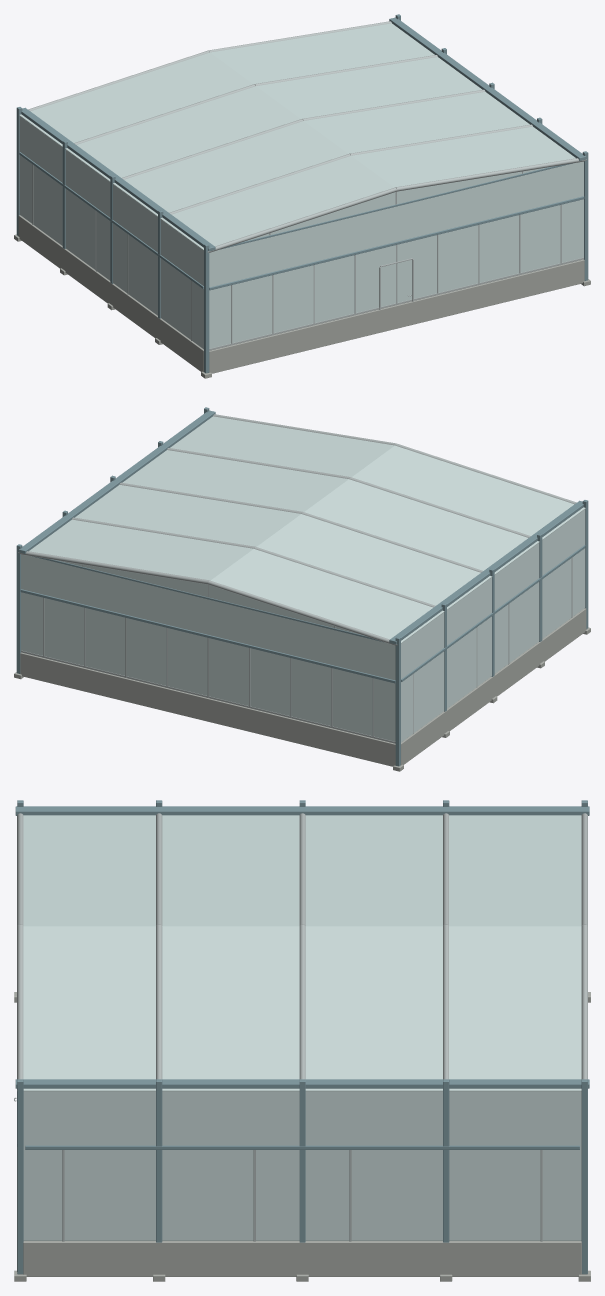
The model's file is abandoned-tidal-model-testing-hall-roofed-hydraulic-mo-b1d4752d__32329.glb.
The picture shows the model from 3 angles, top to bottom: view 1: azimuth 30°, elevation 25°; view 2: azimuth 150°, elevation 25°; view 3: azimuth 270°, elevation 25°; orthographic projection. The views are drawn at different scales.
Visible parts, largest first — view 1: roofed-hydraulic-model-hall; view 2: roofed-hydraulic-model-hall; view 3: roofed-hydraulic-model-hall.
Part boxes in pixels (box(x1,y1,x2,y2)): roofed-hydraulic-model-hall: box(14, 14, 590, 378); roofed-hydraulic-model-hall: box(14, 407, 590, 771); roofed-hydraulic-model-hall: box(14, 800, 590, 1281).
Bounding box in the file's own units: 14.06 × 4.97 × 12.06.
